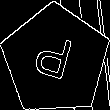P_S: (32, 31, 80, 89)
